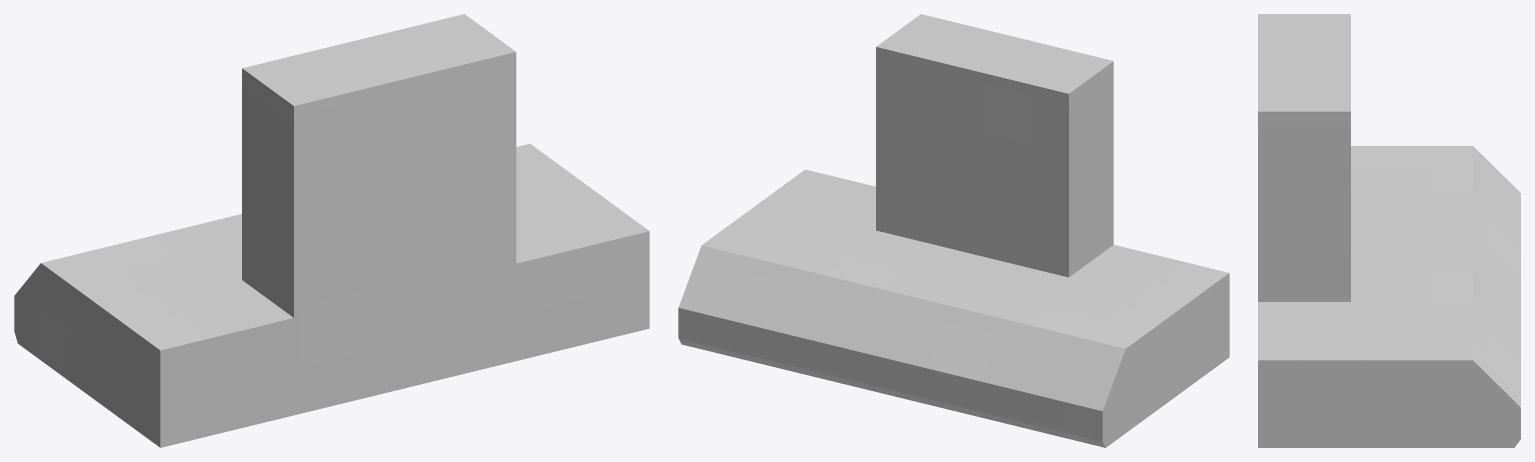
File: KitchenExhaust03.glb
3 renders of one model, left to right at view 1: azimuth 30°, elevation 25°; view 2: azimuth 150°, elevation 25°; view 3: azimuth 270°, elevation 25°, orthographic. The views are drawn at different scales.
Visible parts, largest first — view 1: KitchenExhaust03_model; view 2: KitchenExhaust03_model; view 3: KitchenExhaust03_model.
Boxes of the visible parts, x1,y1,x2,y2 form: KitchenExhaust03_model: [14, 14, 649, 447]; KitchenExhaust03_model: [678, 14, 1229, 447]; KitchenExhaust03_model: [1258, 14, 1520, 447].
Size of the model in its own units: 1.74 by 1.05 by 0.9031.
Materials: 1 (1 with a texture image).
